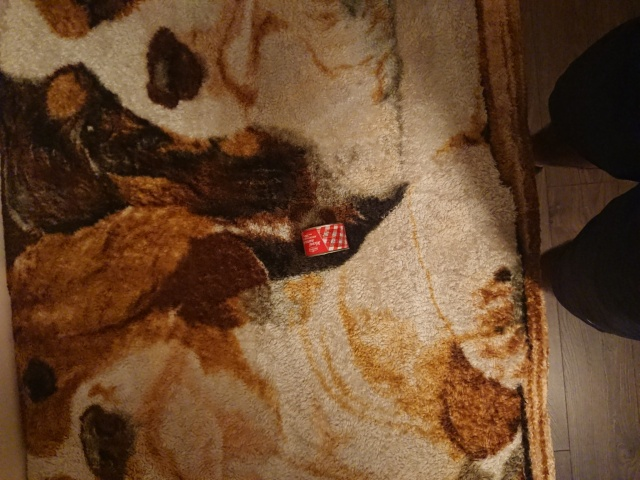Podravka Luncheon Meat 150g: (298, 220, 352, 259)
